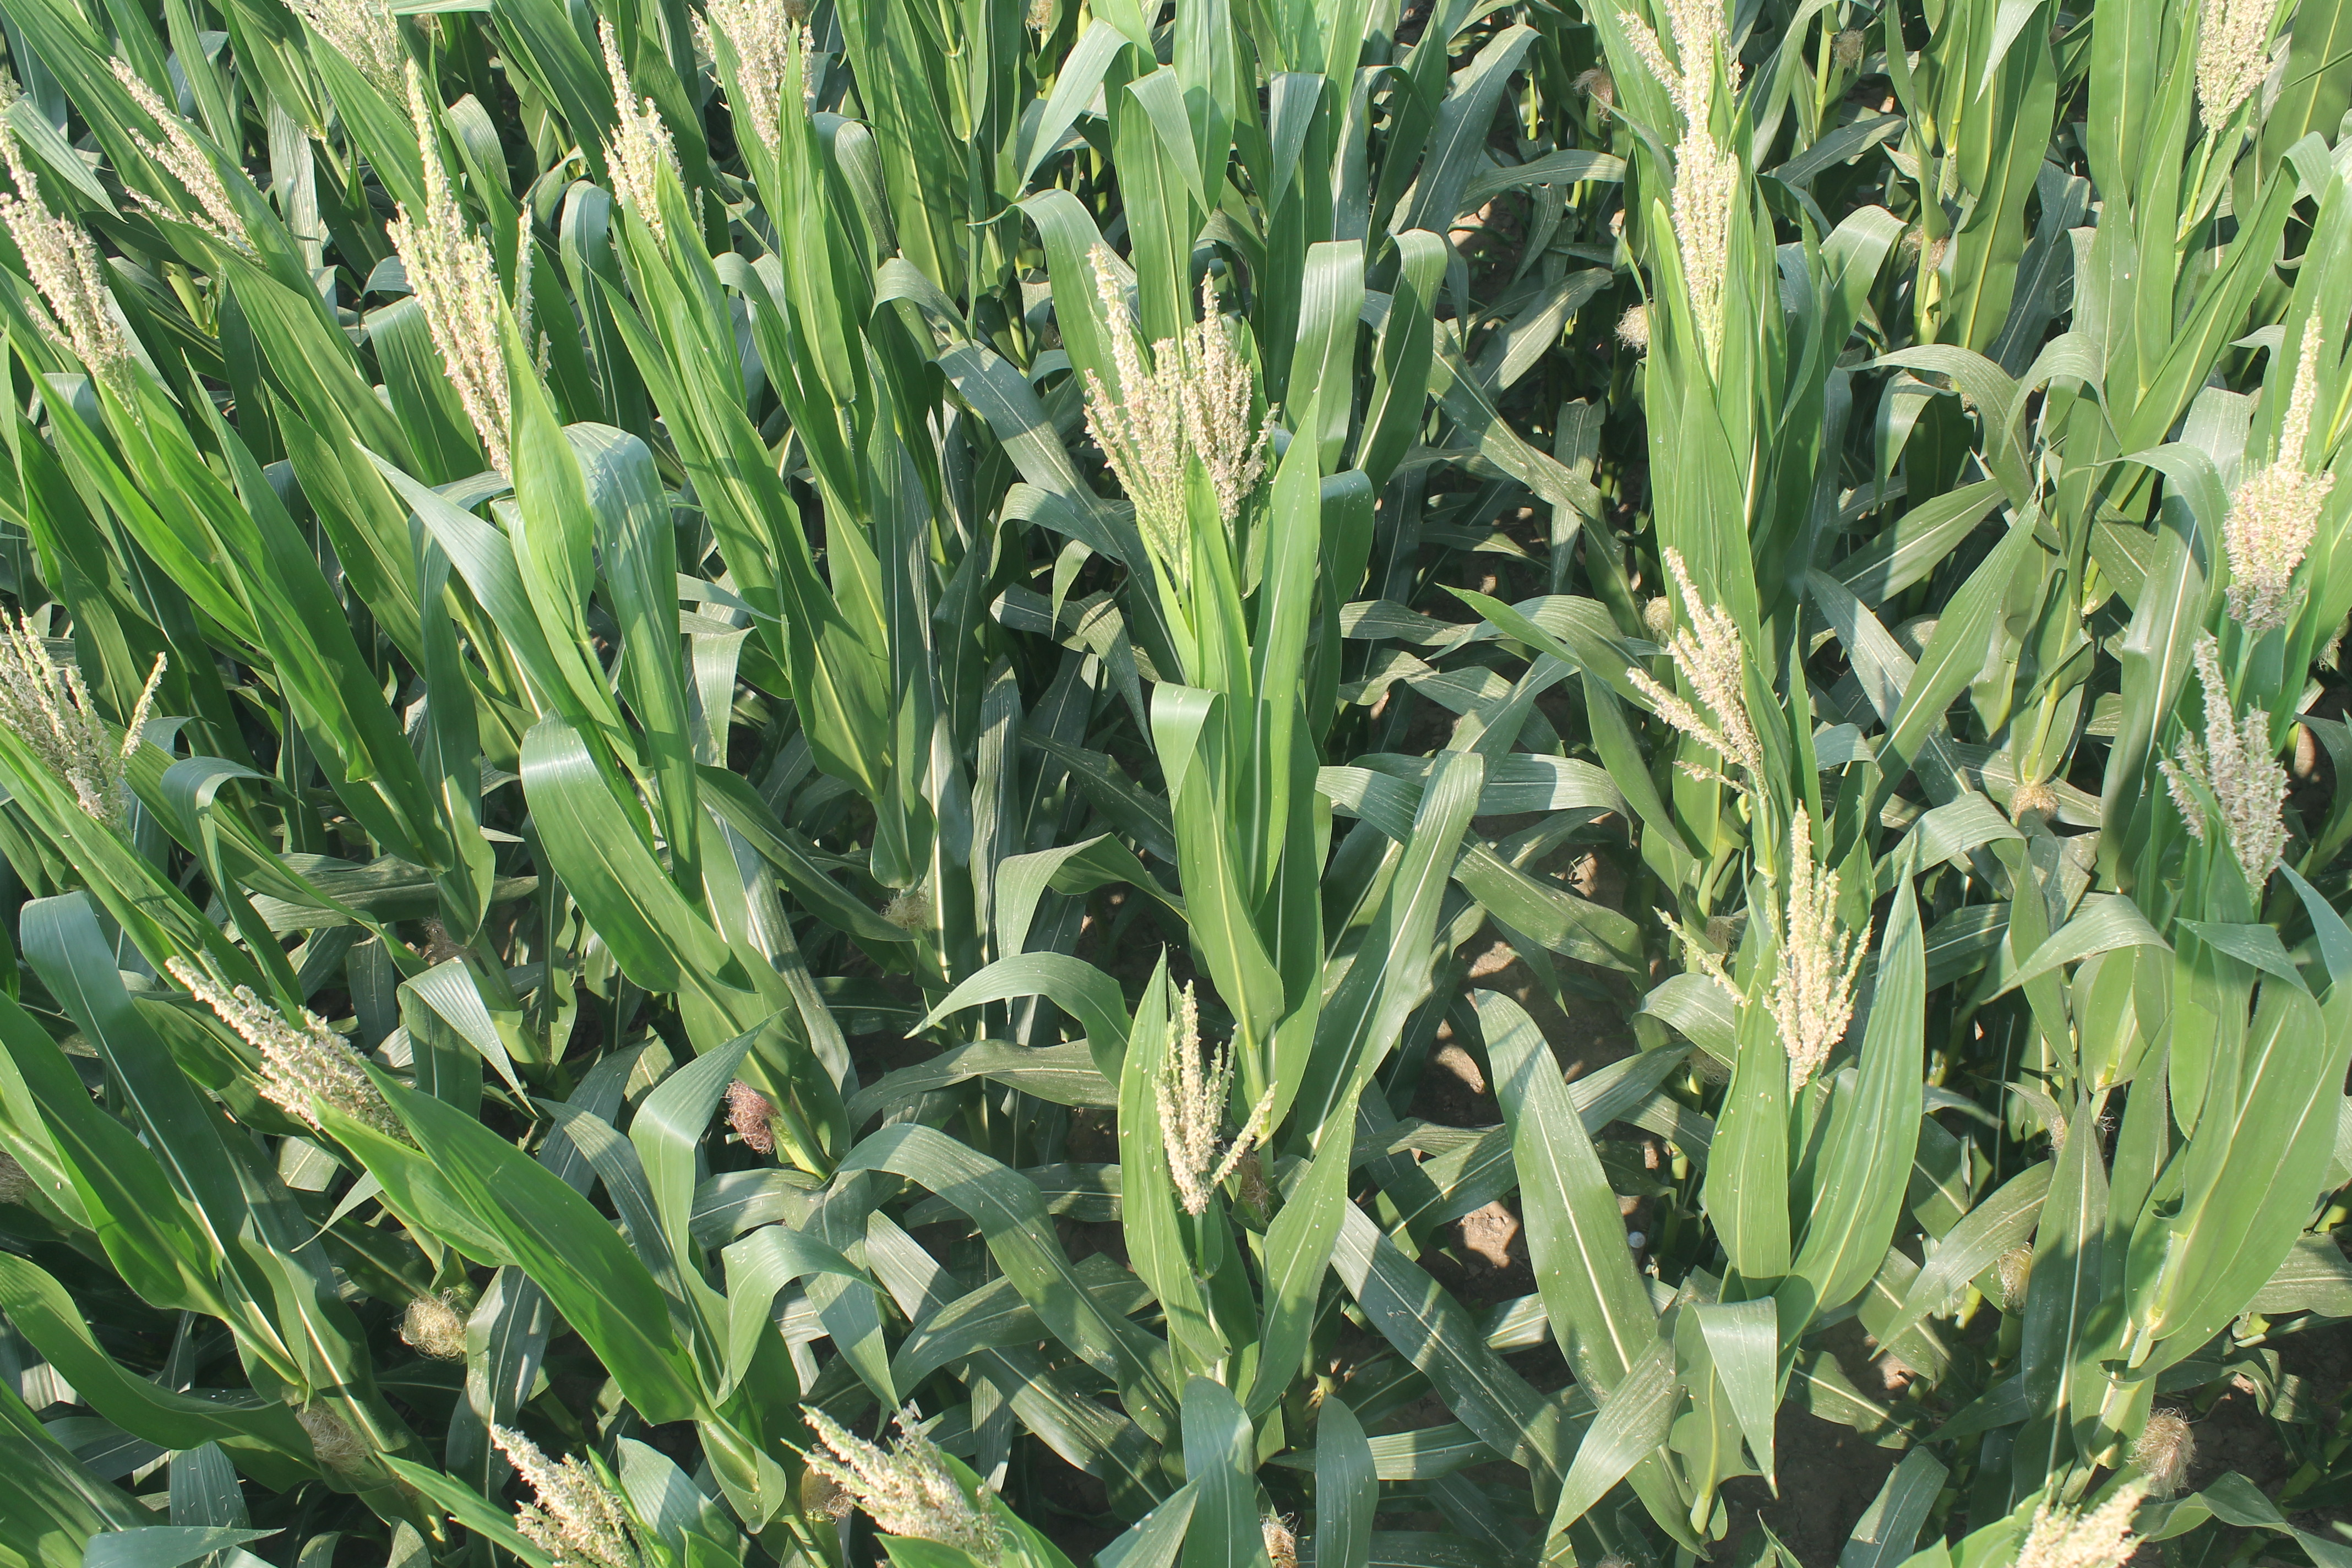Maize: (1045, 252, 1291, 534), (163, 950, 448, 1172), (1652, 812, 1876, 1081), (369, 128, 535, 465), (2149, 640, 2345, 903), (791, 1388, 1076, 1568), (1613, 0, 1764, 336), (0, 593, 171, 843), (2217, 290, 2352, 605), (1610, 553, 1776, 777), (1144, 990, 1304, 1193), (472, 1407, 667, 1568), (119, 56, 250, 264), (0, 149, 112, 378), (584, 9, 682, 240), (700, 0, 826, 177), (2005, 1451, 2193, 1568), (2189, 0, 2336, 149), (306, 0, 444, 112)
